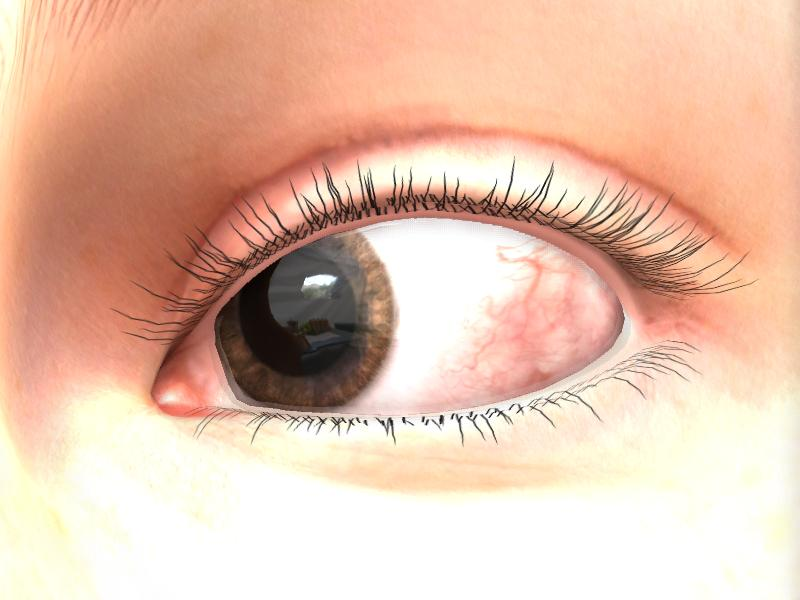eye: (215, 230, 398, 413)
